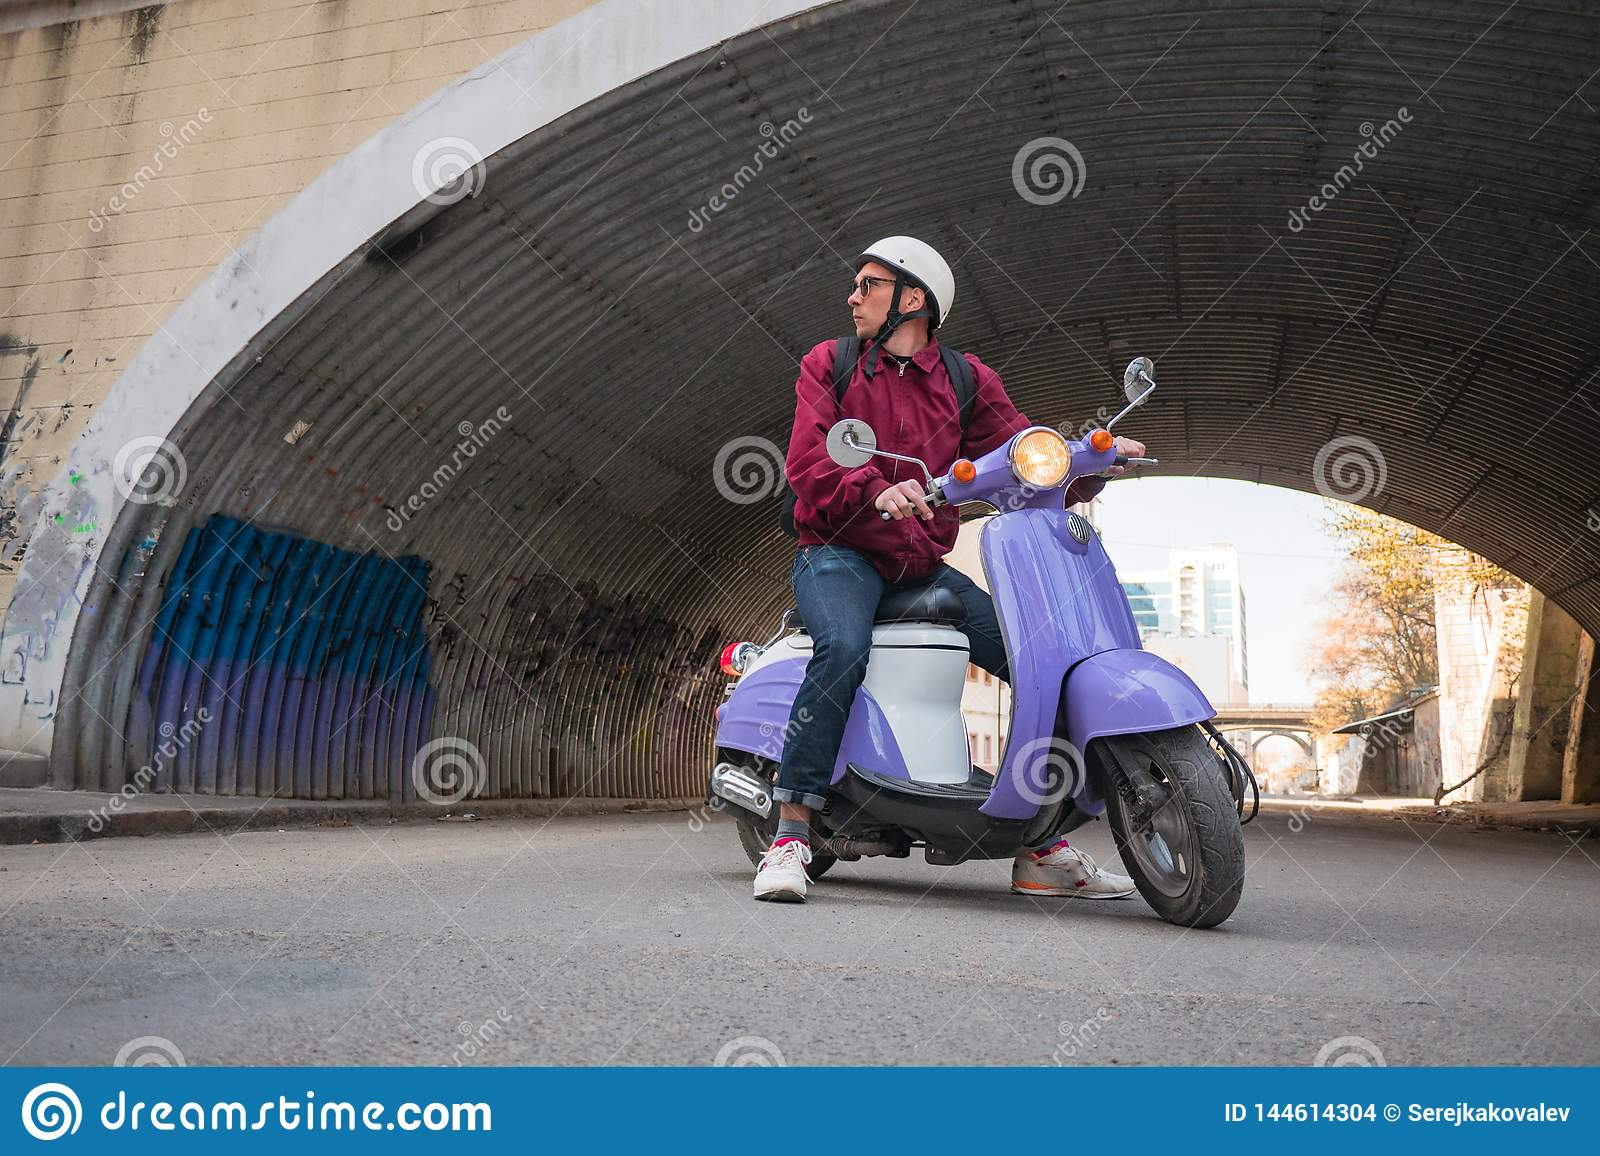helmet: (862, 224, 966, 309)
